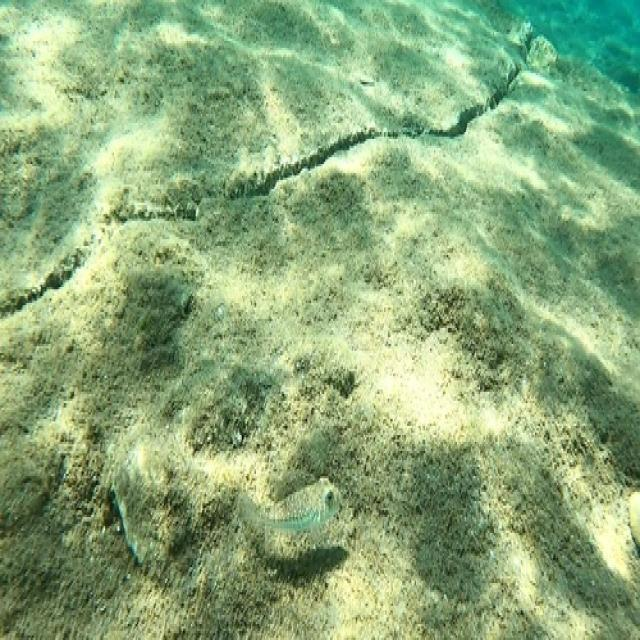Balik: (241, 479, 340, 532)
